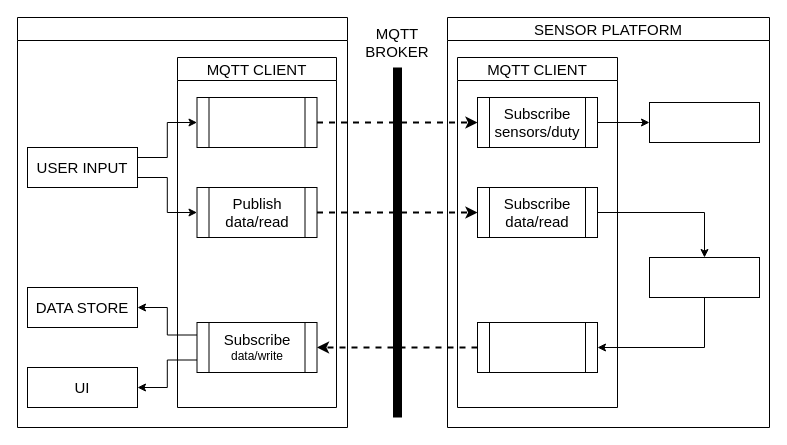
The diagram is 787 pixels wide and 445 high, and some of its shapes have lost their labels. Here are the shapes that lost their labels. From the top down, the box of each, then its label:
(196, 96, 317, 148): Publish sensors/duty
(648, 102, 760, 142): ACTUATORS
(16, 16, 348, 428): CONTROLLER
(648, 256, 760, 298): SENSORS
(476, 322, 598, 372): Publish data/write
